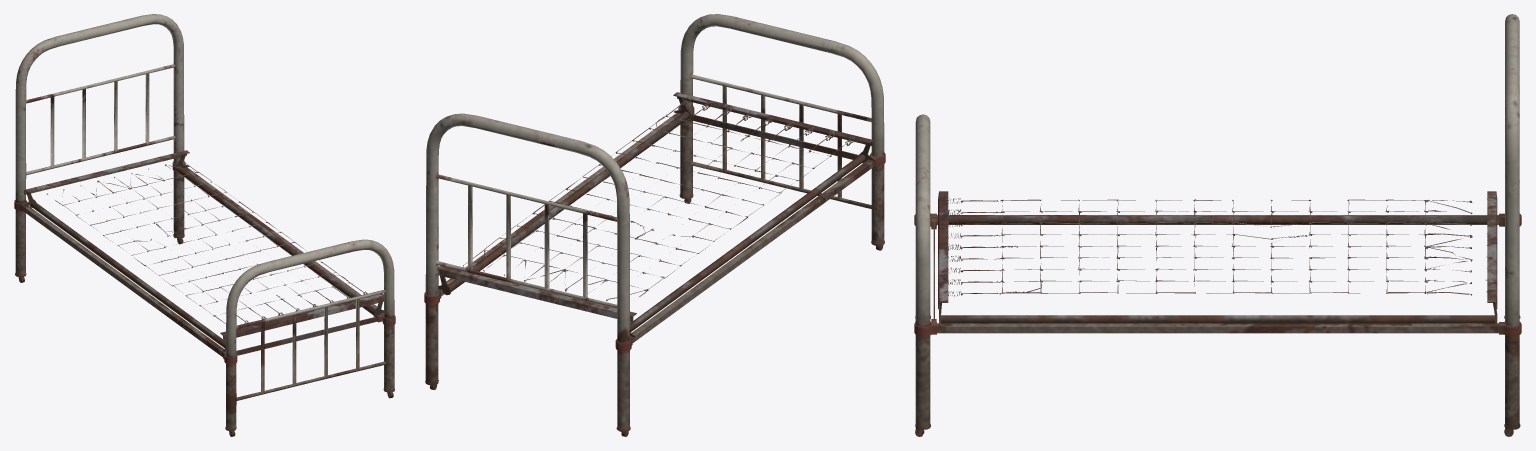
Rendered from old_bed_frame_lod1.glb.
3 renders of one model, left to right at view 1: azimuth 30°, elevation 25°; view 2: azimuth 150°, elevation 25°; view 3: azimuth 270°, elevation 25°, orthographic. The views are drawn at different scales.
Visible parts, largest first — view 1: old_bed_frame; view 2: old_bed_frame; view 3: old_bed_frame.
Part boxes in pixels (x1=…): old_bed_frame: x1=14, y1=14, x2=395, y2=436; old_bed_frame: x1=424, y1=14, x2=885, y2=436; old_bed_frame: x1=914, y1=14, x2=1521, y2=436.
Size of the model in its own units: 0.9047 by 1.2 by 2.
1 material, 1 textured.
